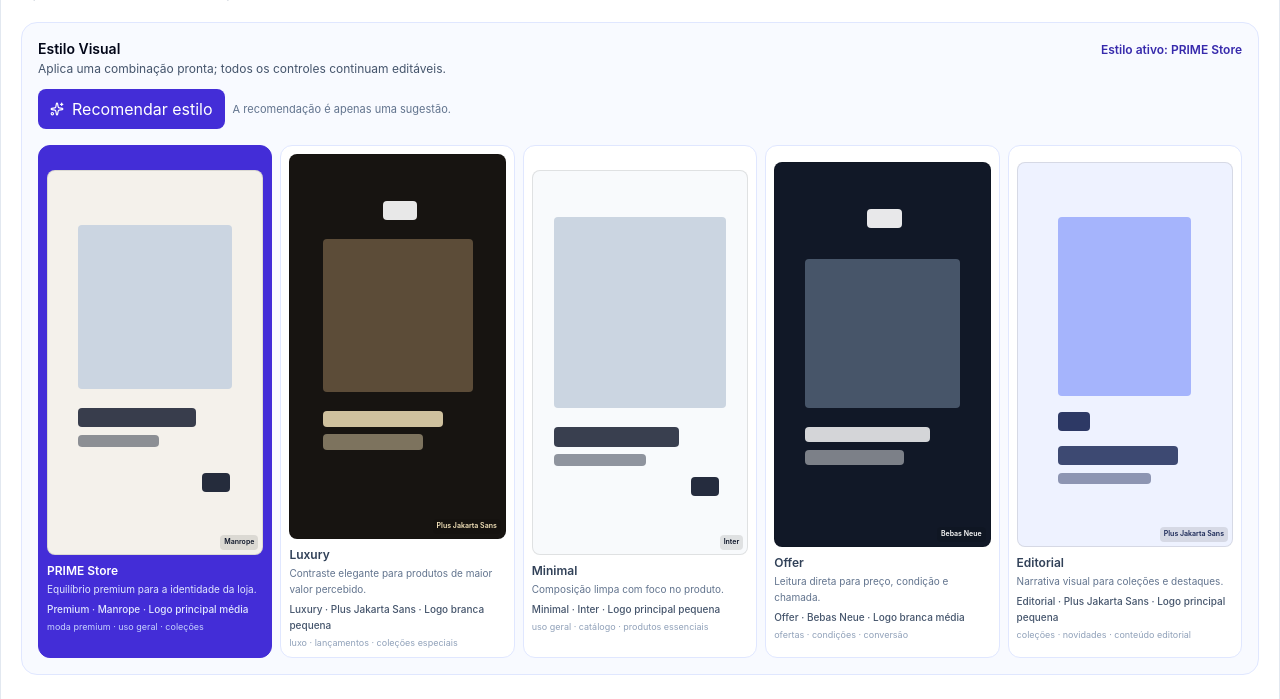
Test: StoryComposer › applies a Visual Style locally and derives Personalizado after a manual change
Expected: the text "Estilo ativo: PRIME Store" is shown, [1101,42,1242,58]
Click the button with aria-label "Aplicar estilo visual Luxury" at coordinates (398, 401), box [280,145,515,658]
(page scrolled)
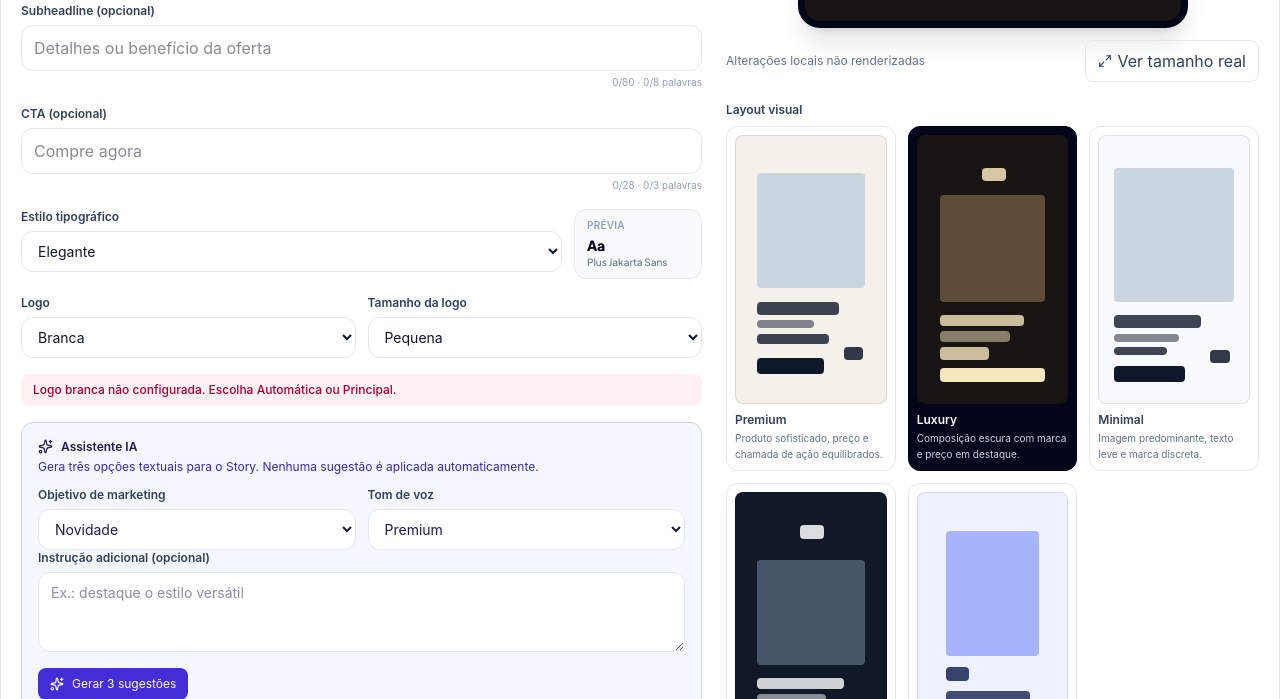
Expected: the dropdown labelled "Estilo tipográfico" shows "Elegante", [21,231,562,272]
Expected: the dropdown labelled "Logo" shows "Branca", [21,317,356,358]
Expected: the dropdown labelled "Tamanho da logo" shows "Pequena"
Select "Média" in the dropdown labelled "Tamanho da logo" at coordinates (535, 337), box [368,317,702,358]
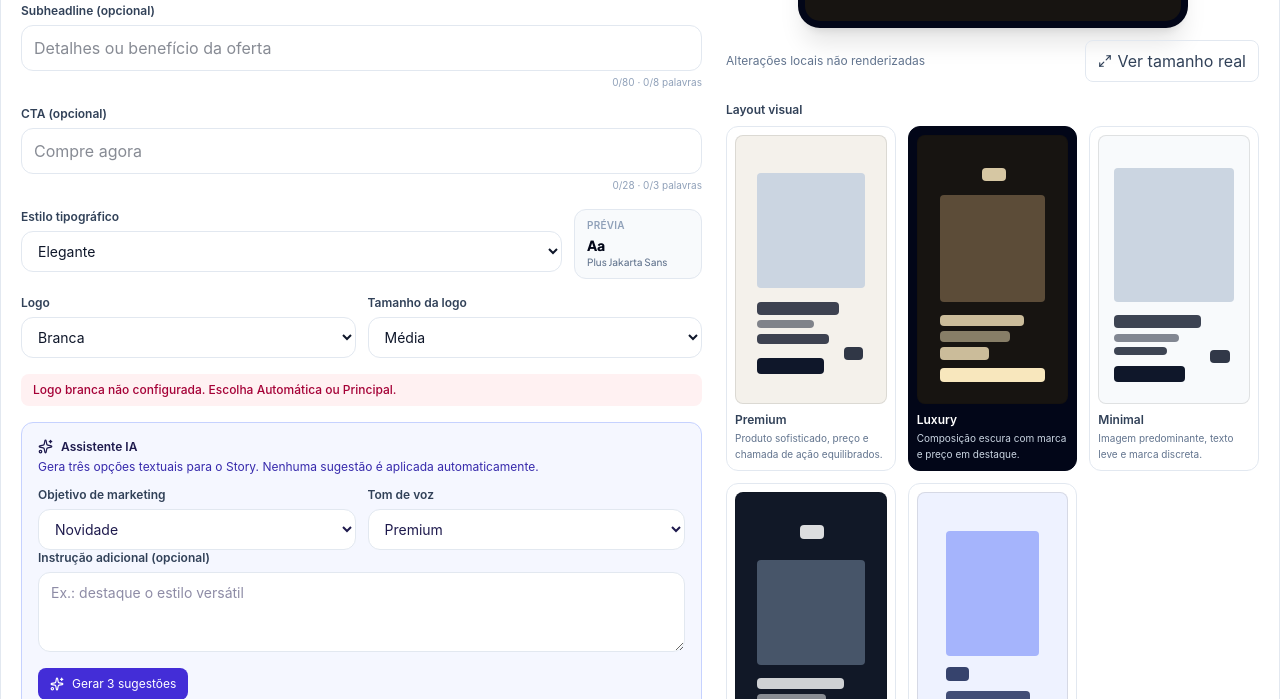
Select "Pequena" in the dropdown labelled "Tamanho da logo" at coordinates (535, 337), box [368,317,702,358]
(page scrolled)
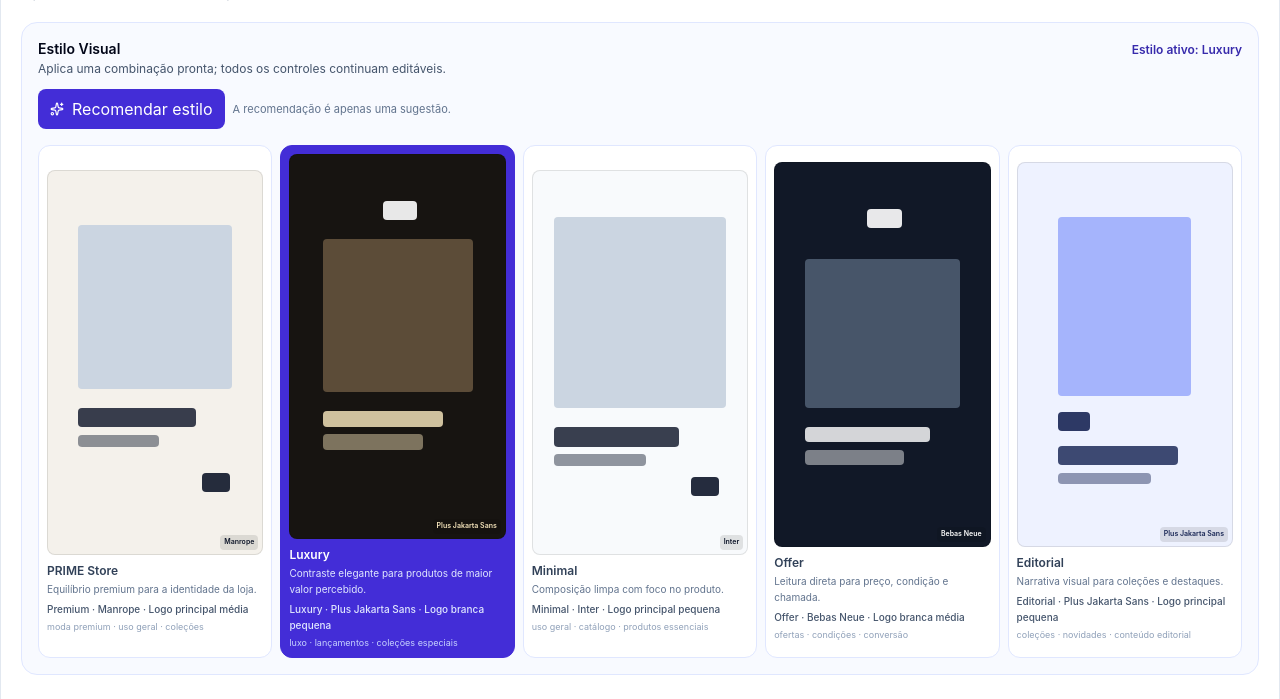
Expected: the text "Estilo ativo: Luxury" is shown, [1132,42,1242,58]
